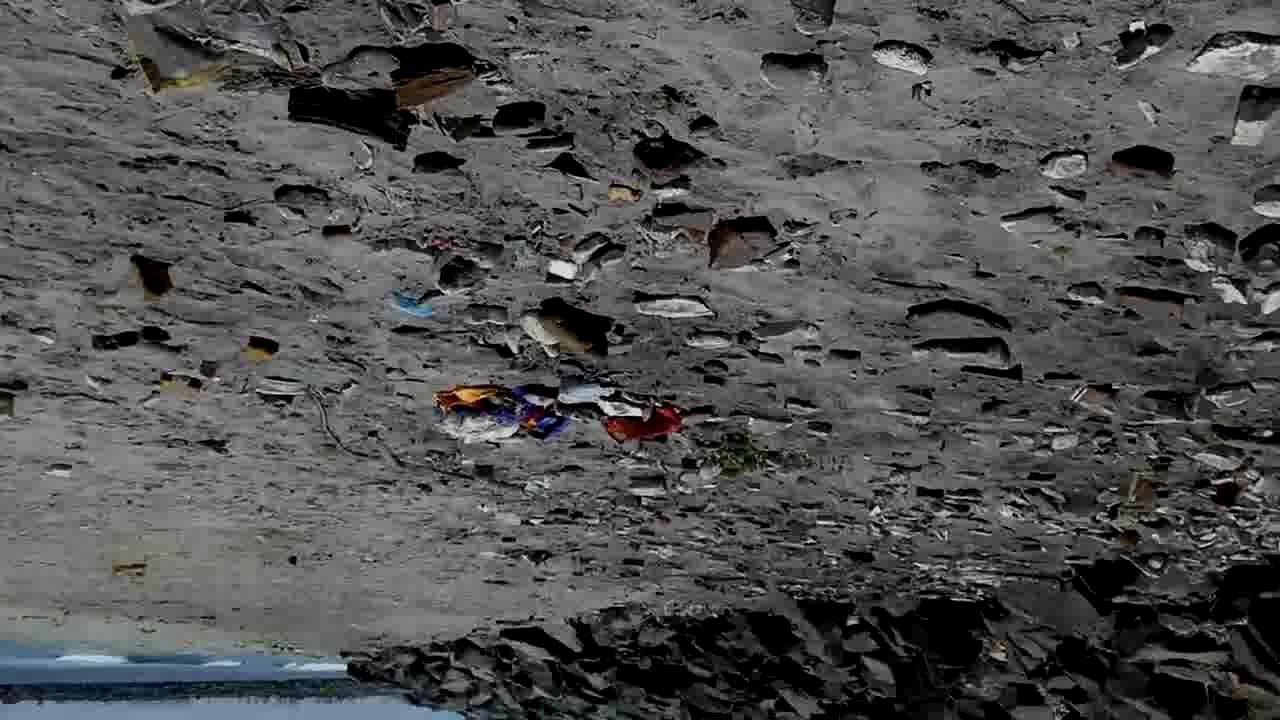large collection of objects: (902, 558, 1009, 605), (536, 304, 612, 359), (906, 301, 1008, 340)
obj: (1011, 426, 1279, 573), (300, 387, 526, 498), (430, 378, 677, 442), (380, 236, 508, 300), (290, 88, 413, 150), (1182, 32, 1279, 82), (389, 60, 480, 108), (544, 234, 630, 284), (704, 220, 777, 271), (689, 437, 778, 476), (746, 53, 834, 91), (88, 326, 184, 358), (1114, 20, 1175, 70), (1225, 91, 1279, 145), (625, 291, 725, 319), (864, 39, 944, 73), (1184, 221, 1240, 269), (132, 247, 178, 304), (1117, 287, 1187, 322), (497, 100, 549, 136), (1036, 150, 1092, 180), (797, 1, 838, 39), (1114, 474, 1154, 512), (753, 322, 827, 338), (240, 336, 272, 363), (686, 329, 729, 347)
sand/background: (0, 519, 1280, 719)
